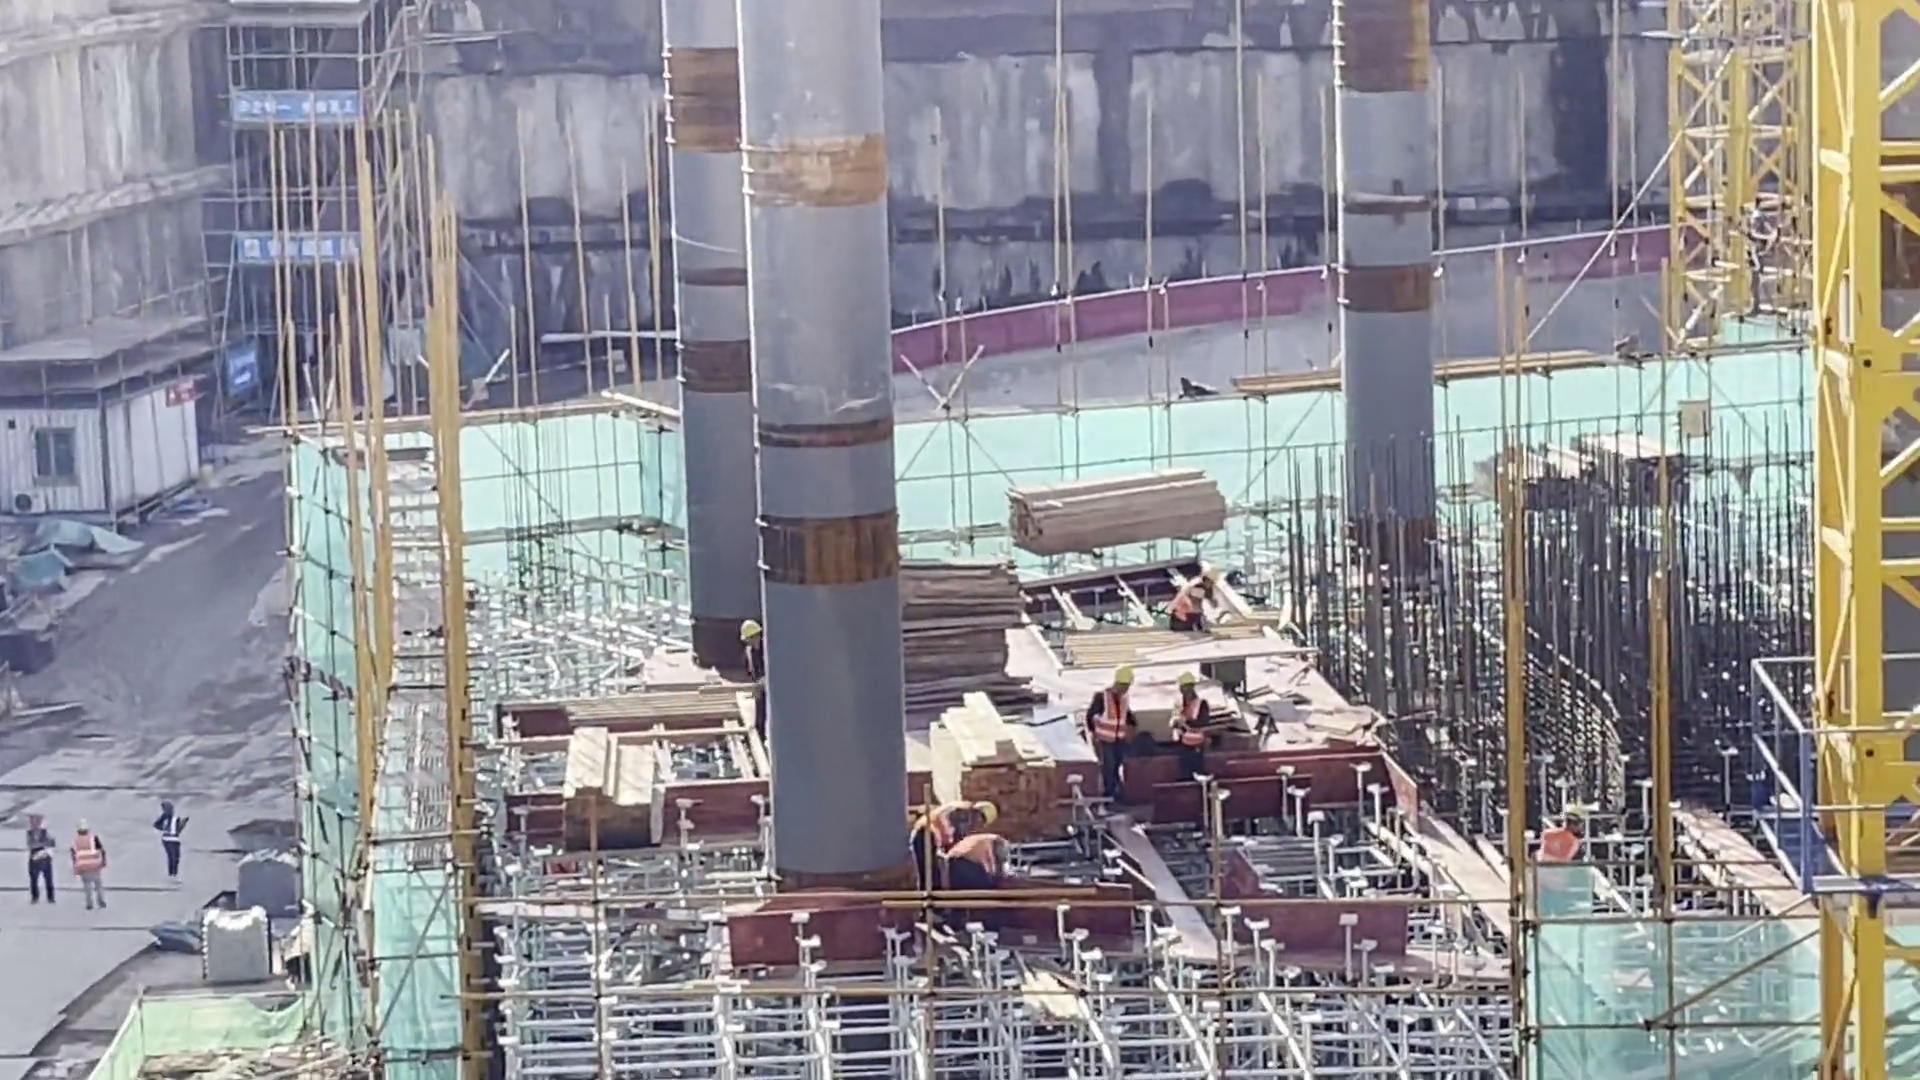helmet: (740, 619, 765, 646), (974, 797, 997, 827), (1558, 803, 1586, 824), (1112, 666, 1136, 689), (1200, 567, 1220, 589), (1176, 671, 1195, 691)
person: (913, 793, 1006, 889), (1084, 656, 1139, 795), (1161, 667, 1210, 775), (735, 616, 770, 736), (65, 814, 107, 908), (1166, 568, 1220, 640), (23, 811, 57, 905), (944, 840, 1002, 894), (1536, 802, 1585, 865), (148, 796, 186, 875)
vest: (913, 800, 969, 856), (1088, 690, 1136, 756), (1170, 694, 1206, 746), (1539, 827, 1578, 865), (69, 834, 97, 872), (29, 831, 53, 869), (163, 820, 186, 854)
